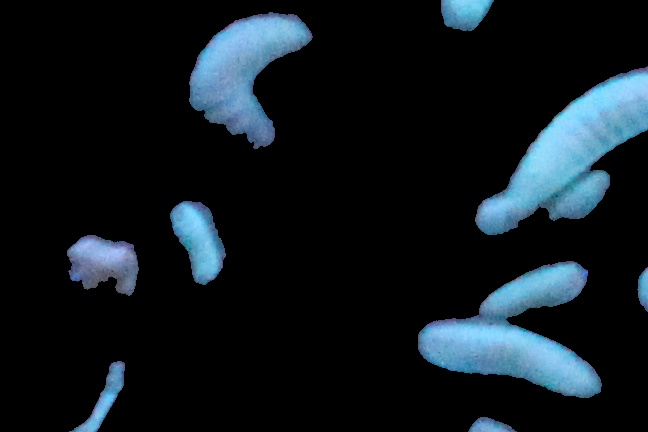larvae: (474, 70, 648, 234), (188, 17, 310, 157), (419, 325, 602, 400), (480, 265, 585, 319), (171, 203, 223, 284), (542, 167, 612, 226), (433, 1, 508, 37)
